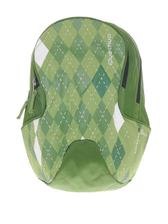bag: (17, 16, 151, 192)
